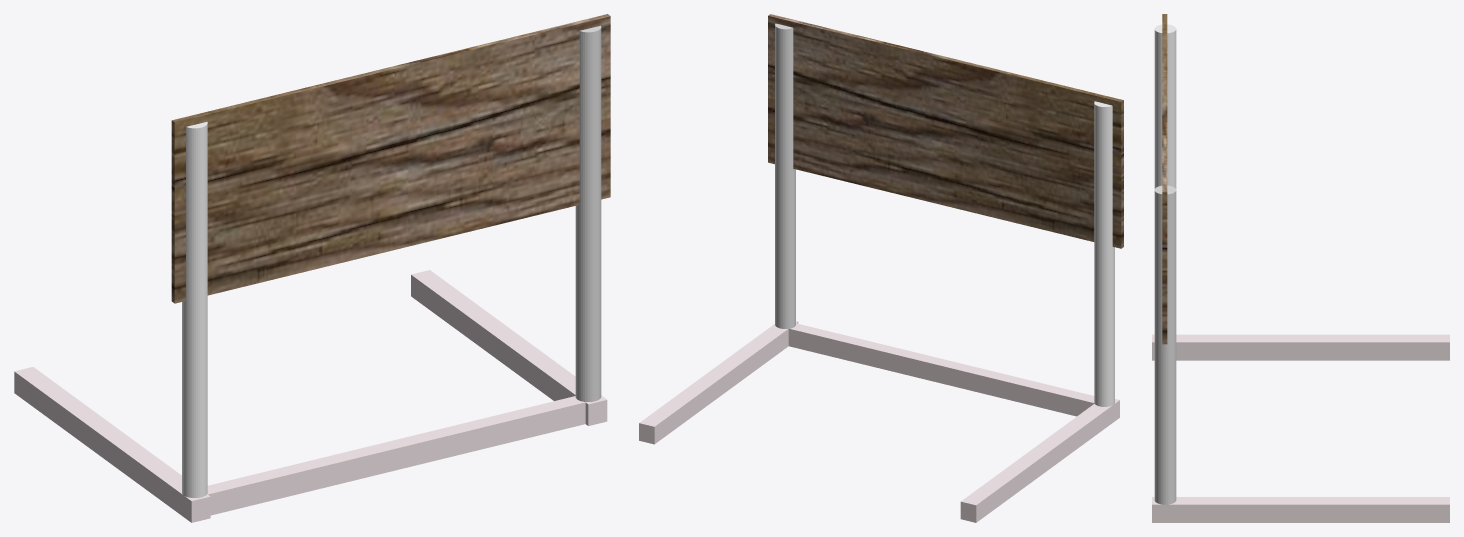
File: Obstacle01.glb
3 renders of one model, left to right at view 1: azimuth 30°, elevation 25°; view 2: azimuth 150°, elevation 25°; view 3: azimuth 270°, elevation 25°, orthographic. The views are drawn at different scales.
Visible parts, largest first — view 1: VisualSceneNode1.003, VisualSceneNode1.002, VisualSceneNode1.001, VisualSceneNode1; view 2: VisualSceneNode1.003, VisualSceneNode1.002, VisualSceneNode1, VisualSceneNode1.001; view 3: VisualSceneNode1.002, VisualSceneNode1.001, VisualSceneNode1, VisualSceneNode1.003.
Part boxes in pixels (x1,y1,x2,y2): VisualSceneNode1.003: (171, 14, 610, 303); VisualSceneNode1.002: (14, 270, 607, 522); VisualSceneNode1.001: (575, 25, 601, 401); VisualSceneNode1: (182, 122, 207, 497); VisualSceneNode1.003: (768, 14, 1123, 248); VisualSceneNode1.002: (639, 321, 1119, 522); VisualSceneNode1: (1094, 101, 1114, 406); VisualSceneNode1.001: (775, 23, 795, 328); VisualSceneNode1.002: (1152, 334, 1449, 522); VisualSceneNode1.001: (1154, 185, 1176, 504); VisualSceneNode1: (1154, 24, 1176, 188); VisualSceneNode1.003: (1162, 14, 1167, 344).
Size of the model in its own units: 1.05 by 0.9162 by 0.7392.
Materials: 4 (1 with a texture image).
